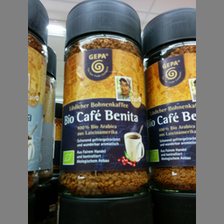coffee: (59, 1, 148, 196), (141, 7, 196, 192)
